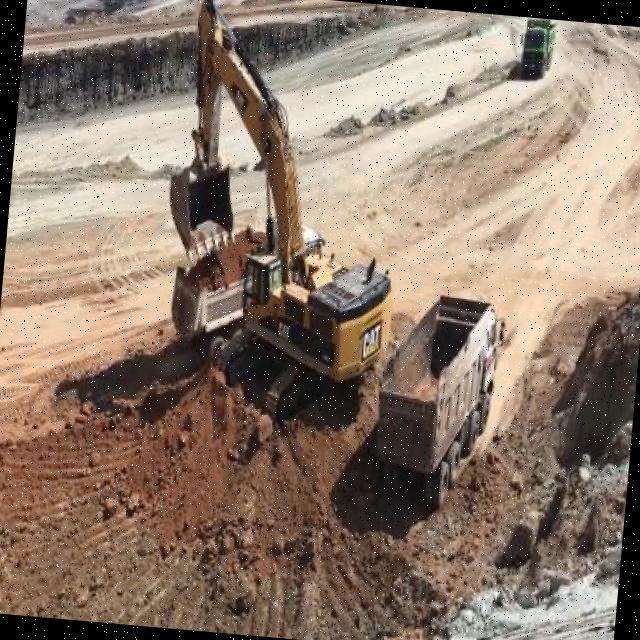Dump Truck: (361, 273, 510, 507), (168, 241, 256, 357), (516, 18, 556, 78)
Excavator: (142, 0, 414, 450)
